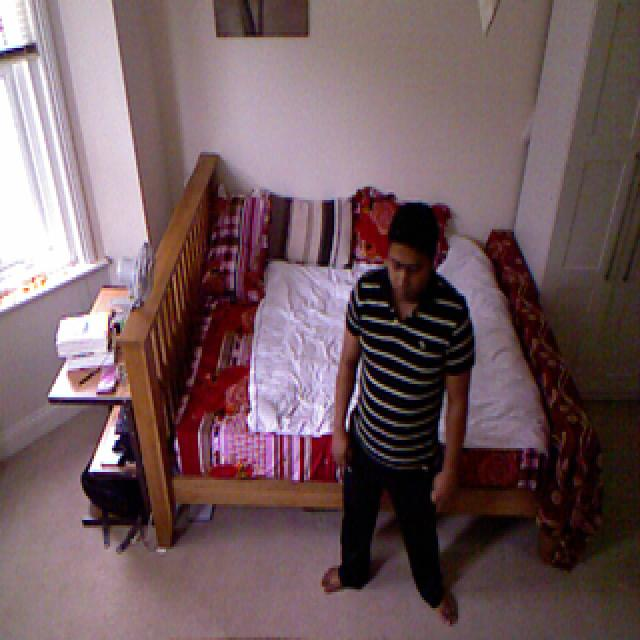standing: (324, 207, 474, 626)
